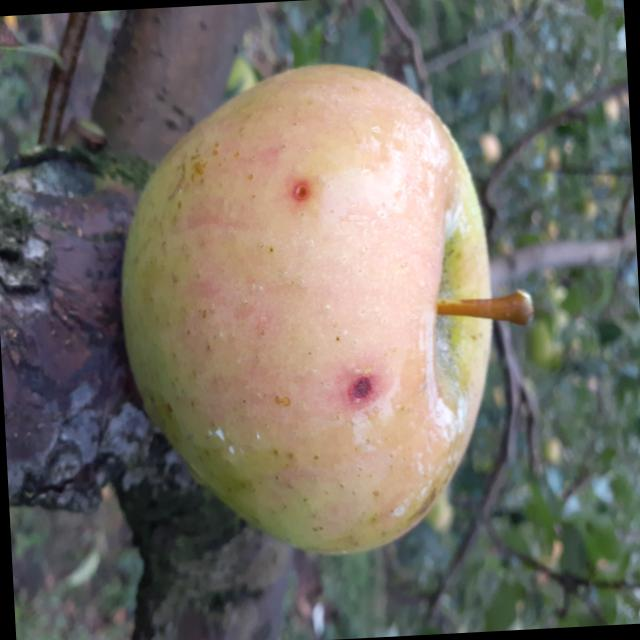rotten: (96, 44, 521, 577)
